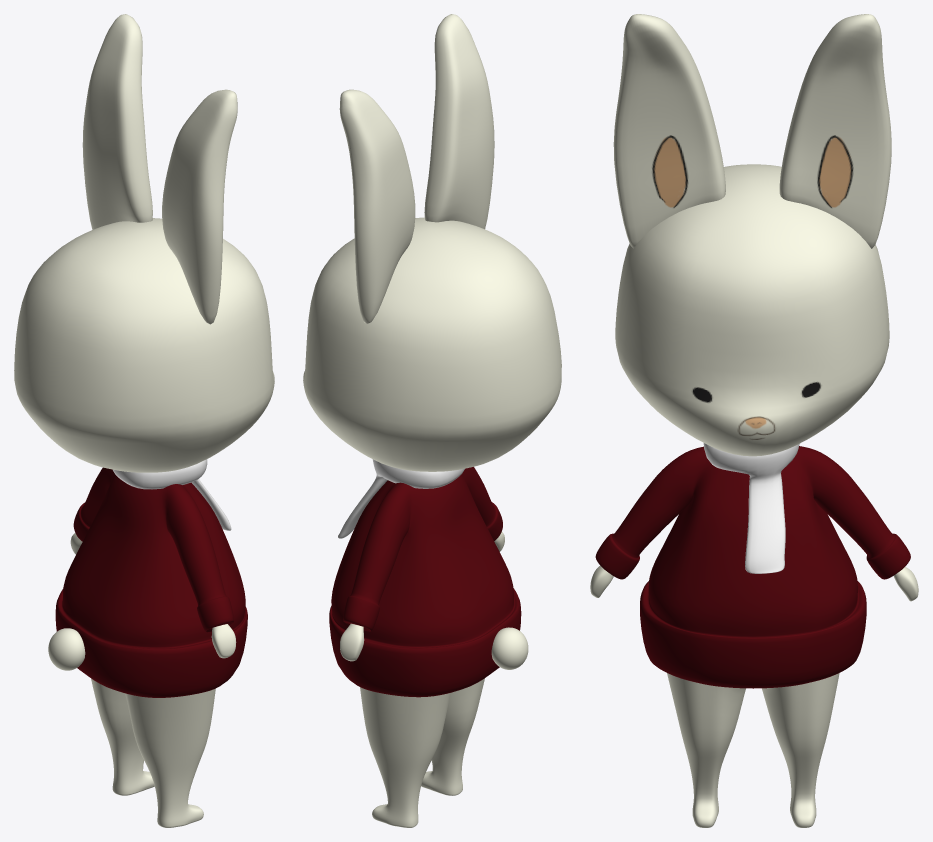
File: StaticConejo.glb
3 views of the same model, side by side, from view 1: azimuth 30°, elevation 25°; view 2: azimuth 150°, elevation 25°; view 3: azimuth 270°, elevation 25° (orthographic). The views are drawn at different scales.
Parts seen in each view (by area): view 1: Thorn_Sketchfab_Thorn_Skin_0, Thorn_Sketchfab_clothing_Thorn_Clothing_0, Thorn_Sketchfab_Scarf_Thorn_Skin_0; view 2: Thorn_Sketchfab_Thorn_Skin_0, Thorn_Sketchfab_clothing_Thorn_Clothing_0, Thorn_Sketchfab_Scarf_Thorn_Skin_0; view 3: Thorn_Sketchfab_Thorn_Skin_0, Thorn_Sketchfab_clothing_Thorn_Clothing_0, Thorn_Sketchfab_Scarf_Thorn_Skin_0.
Boxes of the visible parts, x1,y1,x2,y2 form: Thorn_Sketchfab_Thorn_Skin_0: (14,14,274,827); Thorn_Sketchfab_clothing_Thorn_Clothing_0: (55,467,247,697); Thorn_Sketchfab_Scarf_Thorn_Skin_0: (113,459,231,530); Thorn_Sketchfab_Thorn_Skin_0: (303,14,561,827); Thorn_Sketchfab_clothing_Thorn_Clothing_0: (329,467,521,697); Thorn_Sketchfab_Scarf_Thorn_Skin_0: (338,459,464,538); Thorn_Sketchfab_Thorn_Skin_0: (590,14,918,827); Thorn_Sketchfab_clothing_Thorn_Clothing_0: (595,446,910,688); Thorn_Sketchfab_Scarf_Thorn_Skin_0: (703,443,799,573).
Bounding box in the file's own units: 1.32 × 3.97 × 1.45.
Materials: 3 (1 with a texture image).
